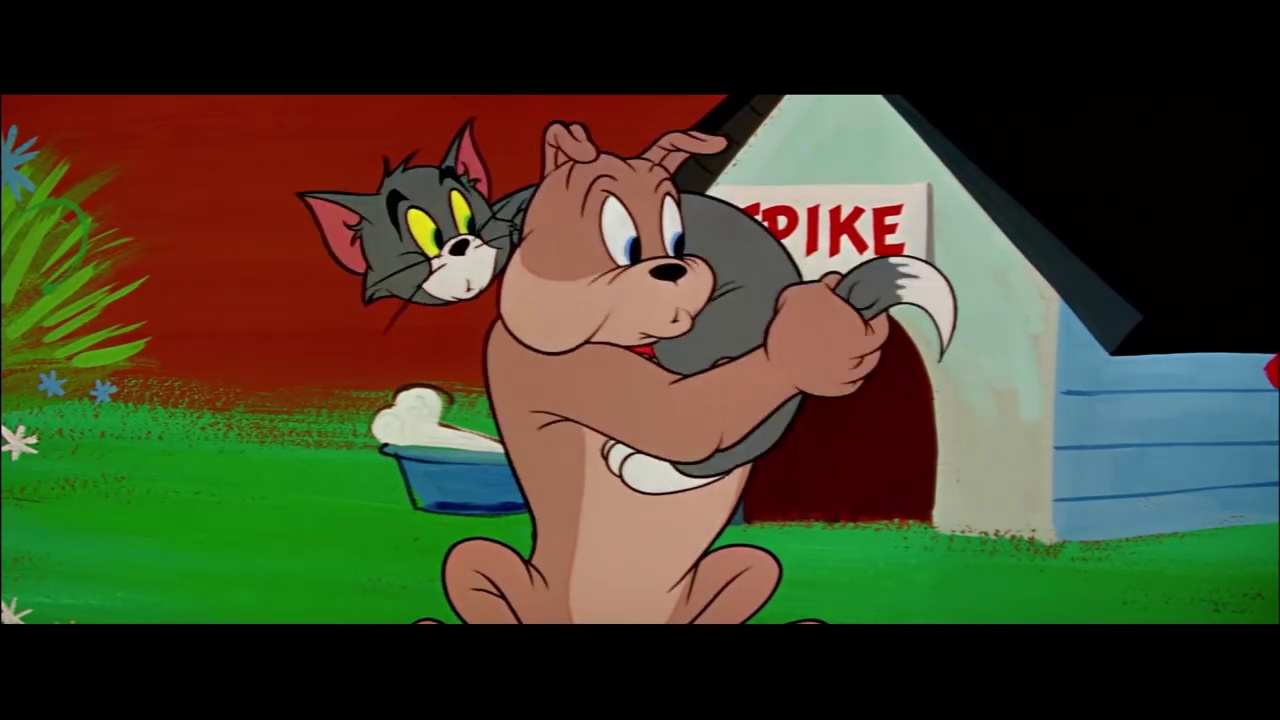spike: (492, 121, 723, 357)
tom: (293, 115, 516, 305)
